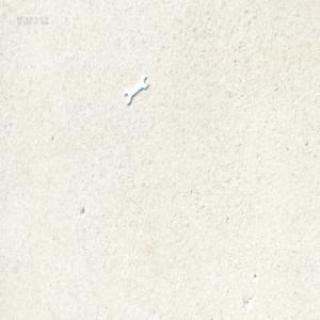Wrenchtrack_idkeyframe: (124, 74, 147, 104)
